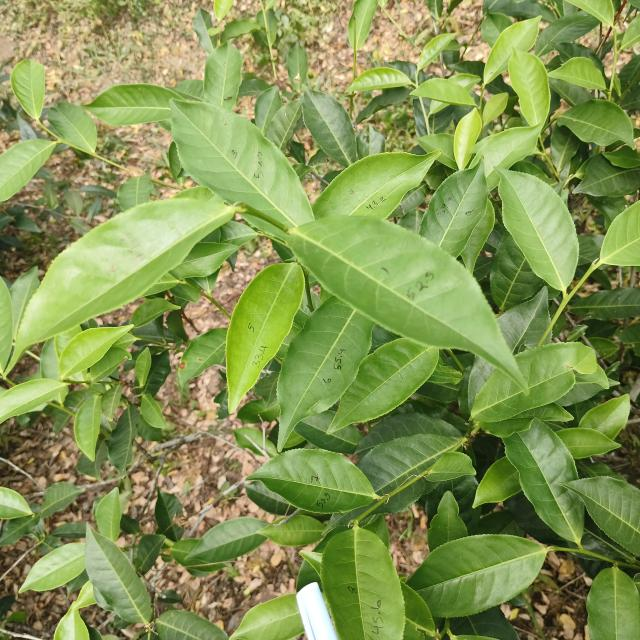Leaf: (289, 217, 526, 390), (13, 198, 233, 364), (170, 99, 314, 227), (277, 296, 374, 449), (226, 263, 304, 413), (408, 534, 546, 618), (328, 338, 439, 434), (497, 168, 579, 292), (504, 419, 584, 544), (471, 343, 597, 422), (320, 526, 404, 640), (312, 150, 440, 219), (356, 432, 461, 513), (249, 449, 379, 514), (419, 161, 488, 258), (85, 527, 153, 624), (561, 476, 640, 556), (490, 231, 545, 313), (302, 86, 357, 167), (86, 84, 184, 126), (471, 127, 539, 187), (586, 567, 640, 640), (59, 325, 133, 378), (484, 16, 540, 84), (557, 99, 633, 146), (188, 517, 266, 562), (497, 287, 549, 354), (0, 139, 55, 201), (230, 594, 304, 640), (19, 543, 85, 592), (508, 51, 550, 126), (294, 410, 363, 454), (178, 328, 227, 388), (0, 379, 66, 422), (574, 154, 640, 197), (535, 11, 599, 55), (204, 42, 243, 111), (600, 202, 640, 266), (48, 102, 97, 152), (171, 242, 236, 279), (473, 457, 521, 507), (428, 491, 467, 552), (569, 287, 640, 320), (579, 394, 630, 439), (108, 405, 140, 475), (9, 267, 40, 339), (156, 610, 228, 640), (258, 514, 324, 546), (10, 60, 45, 119), (556, 428, 621, 459), (356, 87, 411, 123), (265, 101, 302, 151), (549, 57, 605, 90), (410, 78, 474, 106), (74, 396, 101, 461), (454, 109, 482, 170), (347, 67, 412, 92), (347, 0, 378, 51), (464, 356, 495, 407), (86, 346, 131, 381), (245, 481, 291, 515), (155, 489, 184, 541), (41, 482, 84, 517), (94, 488, 122, 541), (417, 133, 457, 170), (426, 452, 475, 482), (417, 33, 455, 71), (139, 351, 171, 396), (131, 298, 179, 327), (76, 435, 108, 478), (233, 427, 277, 458), (117, 174, 153, 211), (255, 86, 282, 135), (0, 514, 40, 546), (134, 534, 166, 574), (551, 125, 579, 170), (568, 0, 614, 26), (393, 183, 428, 216), (54, 609, 89, 640), (481, 13, 512, 47), (286, 44, 308, 91), (193, 8, 215, 54), (0, 487, 31, 519), (356, 125, 385, 159), (238, 400, 279, 423), (221, 19, 260, 43), (141, 394, 167, 429), (142, 273, 179, 297), (601, 146, 640, 168), (256, 9, 277, 48), (483, 93, 508, 125), (40, 338, 59, 379), (101, 385, 122, 420), (71, 582, 96, 610), (621, 13, 640, 49), (135, 347, 151, 387), (51, 521, 86, 539), (174, 79, 203, 100), (238, 78, 270, 97), (14, 211, 40, 233), (79, 185, 116, 199), (65, 190, 83, 216), (120, 514, 140, 535), (68, 218, 91, 236), (214, 0, 234, 20), (43, 182, 58, 208)
